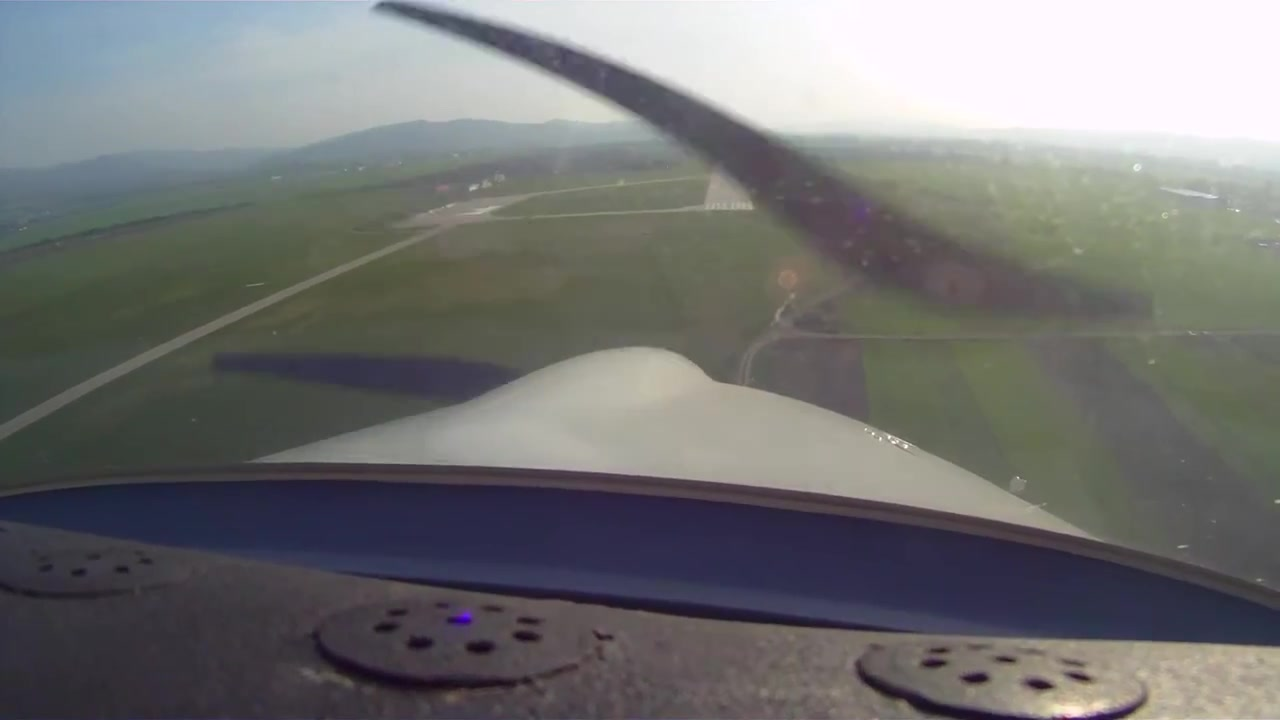entrance: (702, 200, 753, 209)
runway: (699, 153, 758, 213)
